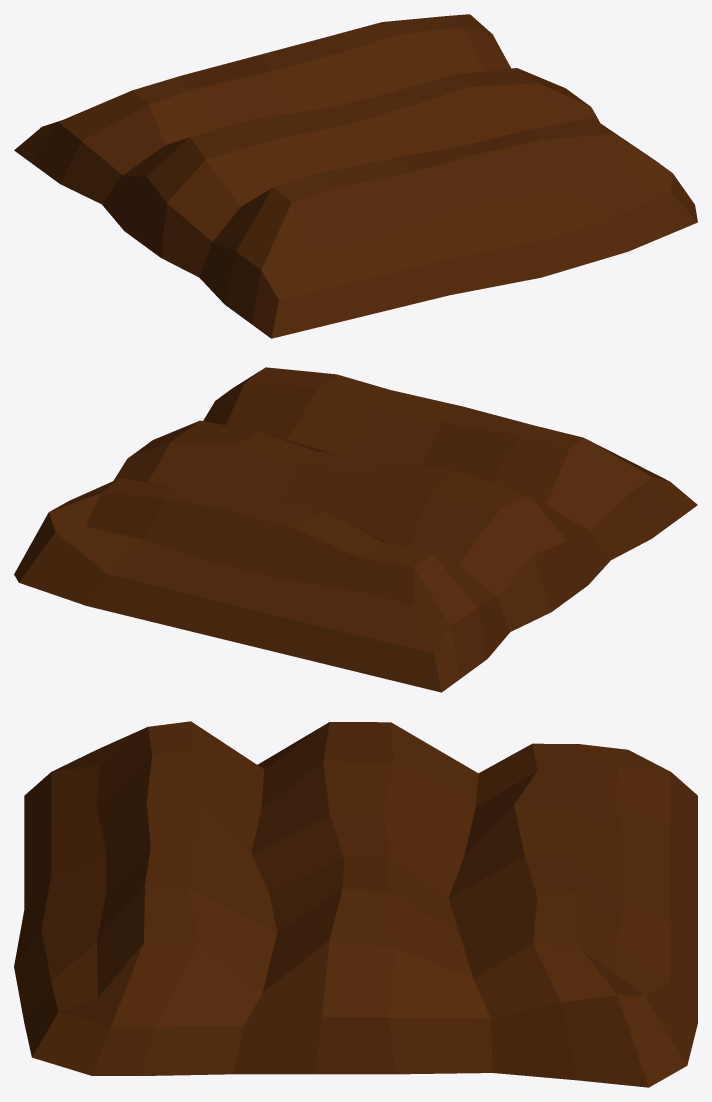
File: EmptyPlot.fbx
The picture shows the model from 3 angles, top to bottom: view 1: azimuth 30°, elevation 25°; view 2: azimuth 150°, elevation 25°; view 3: azimuth 270°, elevation 25°; orthographic projection. The views are drawn at different scales.
Visible parts, largest first — view 1: Plot; view 2: Plot; view 3: Plot.
Part boxes in pixels (x1,y1,x2,y2): Plot: (14, 14, 697, 338); Plot: (14, 367, 697, 692); Plot: (14, 721, 697, 1087).
Bounding box in the file's own units: 304 × 61.2 × 306.
